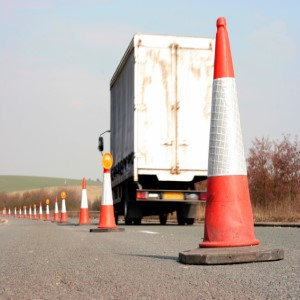traffic cone: (179, 16, 284, 265), (89, 165, 125, 232), (73, 177, 97, 226), (57, 195, 71, 224)
